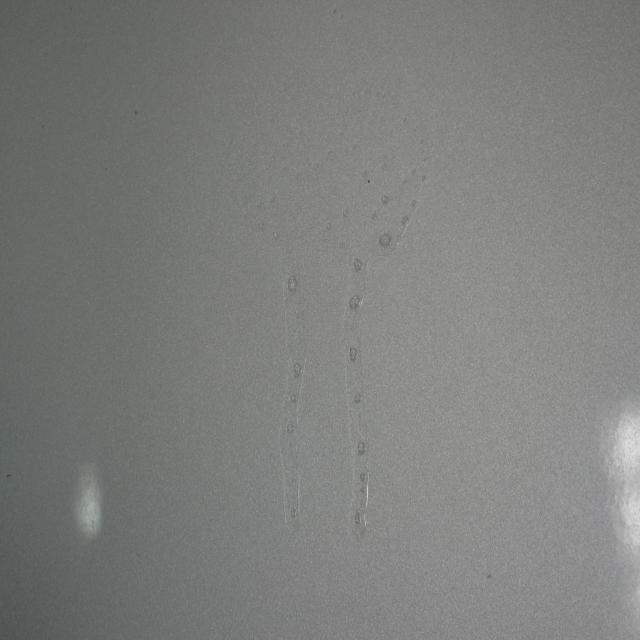dirt: (130, 105, 142, 120)
runs: (204, 77, 430, 539)
